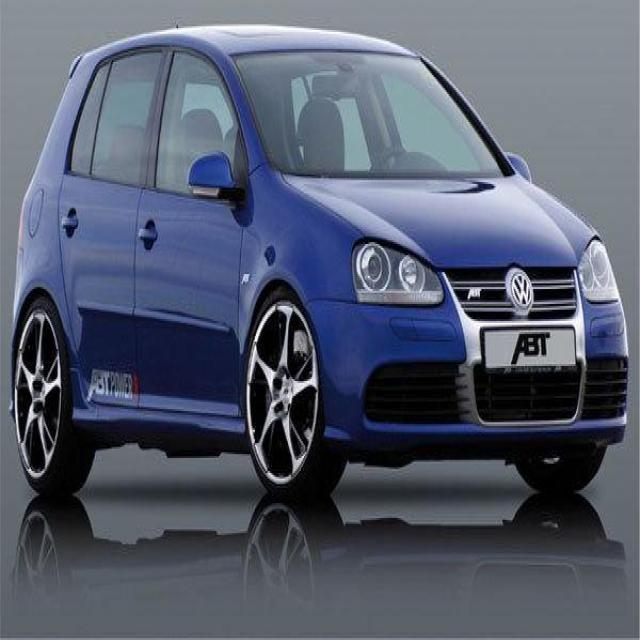Car: (7, 16, 633, 505)
